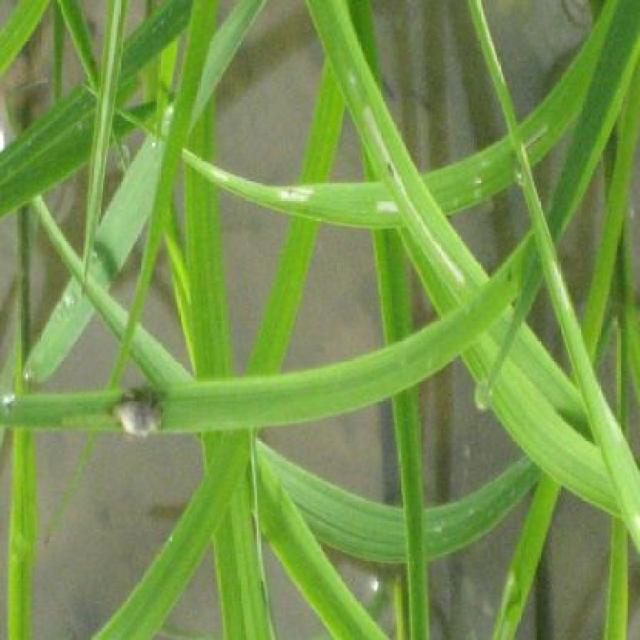rice-bug: (111, 382, 166, 440)
